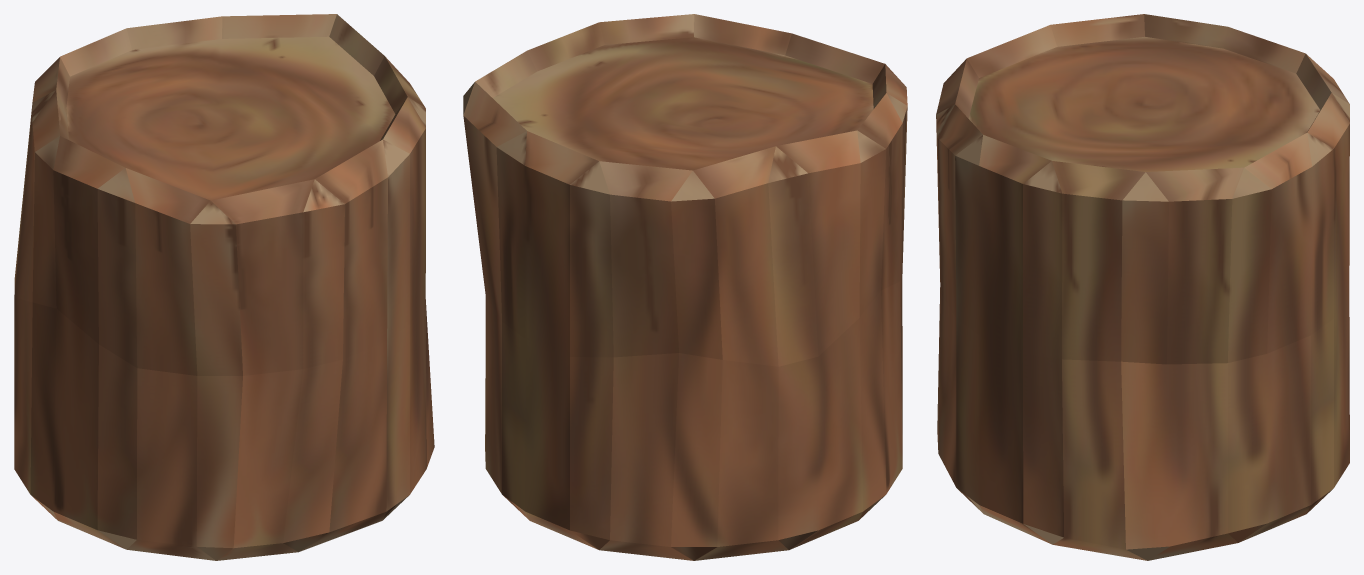
Rendered from wood-block-11.obj.
The picture shows the model from 3 angles, left to right: view 1: azimuth 30°, elevation 25°; view 2: azimuth 150°, elevation 25°; view 3: azimuth 270°, elevation 25°; orthographic projection.
Visible parts, largest first — view 1: wood-block-11; view 2: wood-block-11; view 3: wood-block-11.
Boxes of the visible parts, x1,y1,x2,y2 form: wood-block-11: [14, 14, 434, 560]; wood-block-11: [463, 14, 907, 560]; wood-block-11: [936, 14, 1349, 560].
Size of the model in its own units: 0.6901 by 0.6843 by 0.6604.
